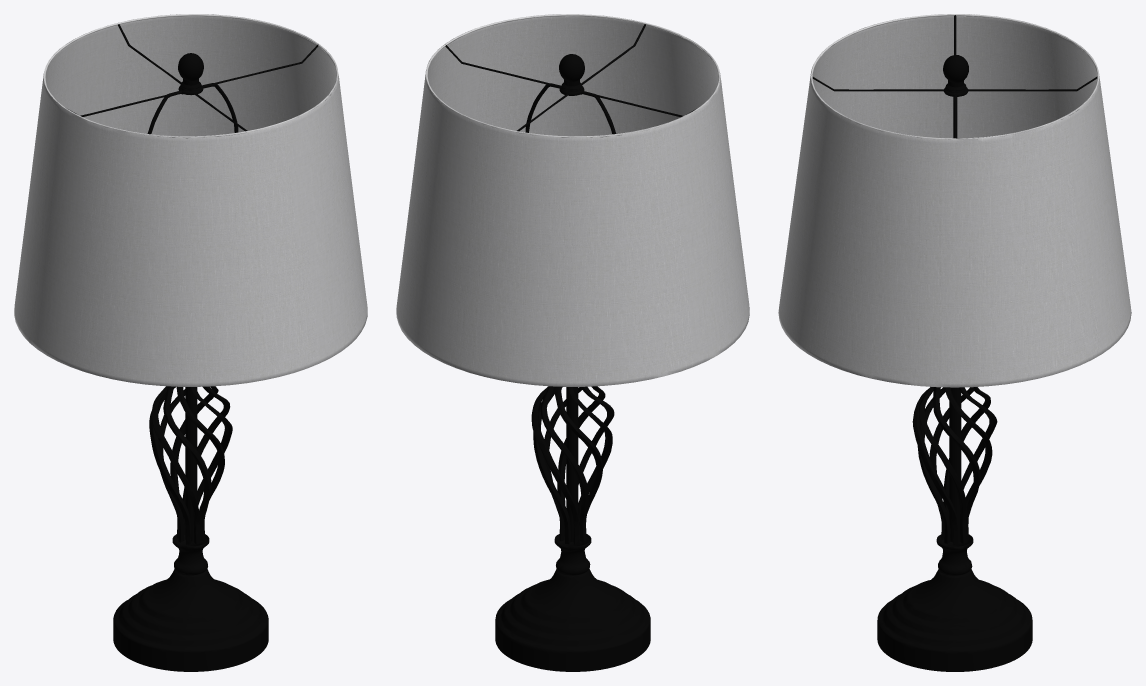
File: TRPT5424_v6_LOD2.obj
The picture shows the model from 3 angles, left to right: view 1: azimuth 30°, elevation 25°; view 2: azimuth 150°, elevation 25°; view 3: azimuth 270°, elevation 25°; orthographic projection.
Visible parts, largest first — view 1: not_clear_obj_0_v6, not_clear_obj_2_v6, not_clear_obj_1_v6, not_clear_obj_4_v6; view 2: not_clear_obj_0_v6, not_clear_obj_2_v6, not_clear_obj_1_v6, not_clear_obj_4_v6; view 3: not_clear_obj_0_v6, not_clear_obj_2_v6, not_clear_obj_1_v6, not_clear_obj_4_v6.
Part boxes in pixels (left/top/right/bottom): not_clear_obj_0_v6: left=14, top=14, right=367, bottom=386; not_clear_obj_2_v6: left=113, top=534, right=268, bottom=671; not_clear_obj_1_v6: left=149, top=53, right=232, bottom=544; not_clear_obj_4_v6: left=66, top=24, right=318, bottom=134; not_clear_obj_0_v6: left=396, top=14, right=749, bottom=386; not_clear_obj_2_v6: left=495, top=534, right=650, bottom=671; not_clear_obj_1_v6: left=531, top=54, right=614, bottom=544; not_clear_obj_4_v6: left=445, top=24, right=695, bottom=134; not_clear_obj_0_v6: left=778, top=14, right=1131, bottom=387; not_clear_obj_2_v6: left=877, top=534, right=1032, bottom=671; not_clear_obj_1_v6: left=912, top=55, right=997, bottom=544; not_clear_obj_4_v6: left=812, top=15, right=1097, bottom=138.
Size of what is drawn, in the model's own units: 34.55 by 62.99 by 34.52.
5 materials, 1 textured.
